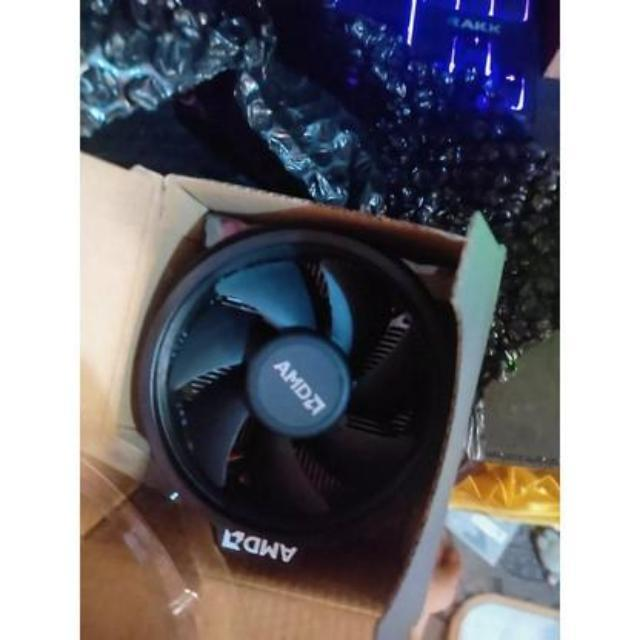CPU_Fan: (117, 226, 457, 580)
